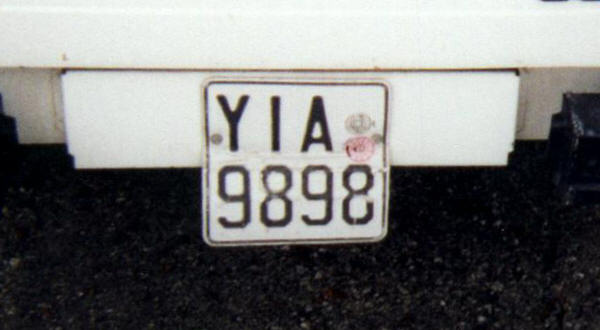license_plate: (202, 78, 388, 243)
